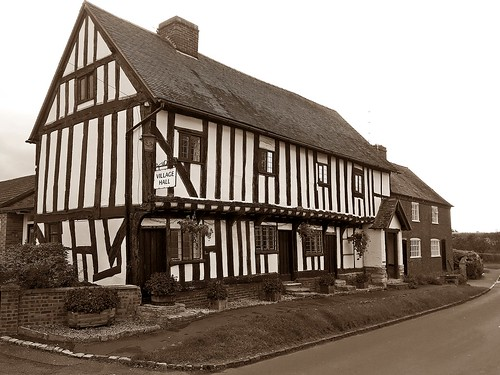low: (387, 161, 460, 288)
medium: (27, 2, 397, 322)
